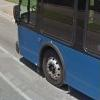Bus: (11, 1, 99, 100)
